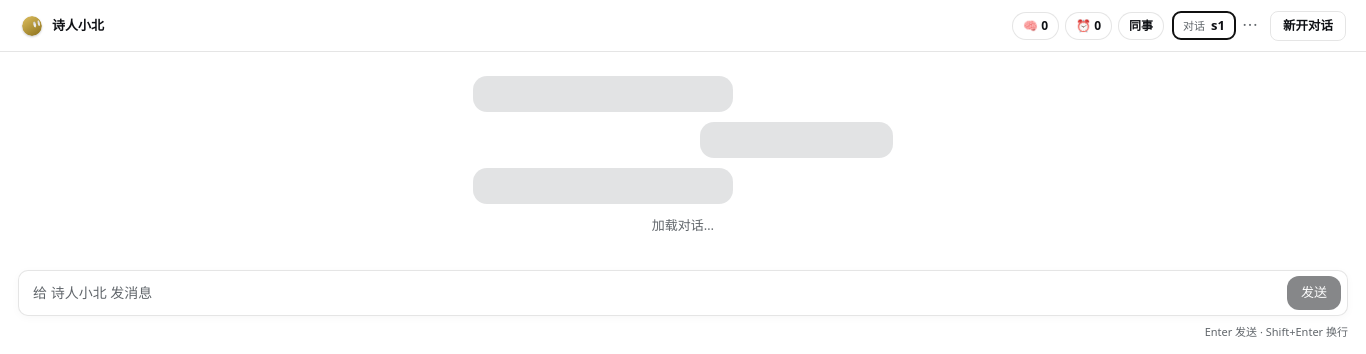
it: Conversation › opens the session switcher as a menu with arrow-key focus
This screenshot has width=1366, height=354.
Expected: the text box with test id "composer-input" is shown, left=25, top=274, right=1283, bottom=310
Click the button with test id "session-select". click: (1204, 26)
box: left=1172, top=11, right=1236, bottom=40
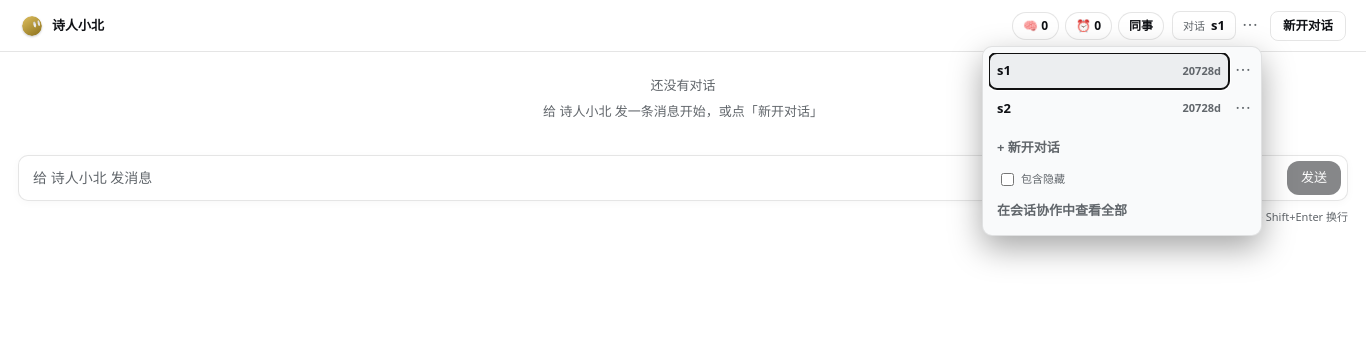
Press ArrowDown in the menu item with test id "session-option-s1", box left=989, top=53, right=1229, bottom=89
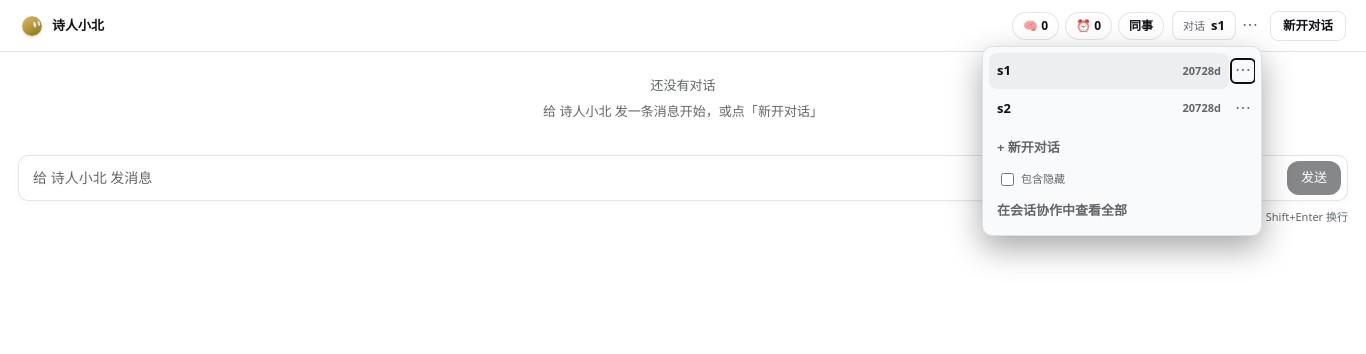
Press ArrowUp in the menu item with test id "session-menu-s1", box left=1231, top=59, right=1255, bottom=83
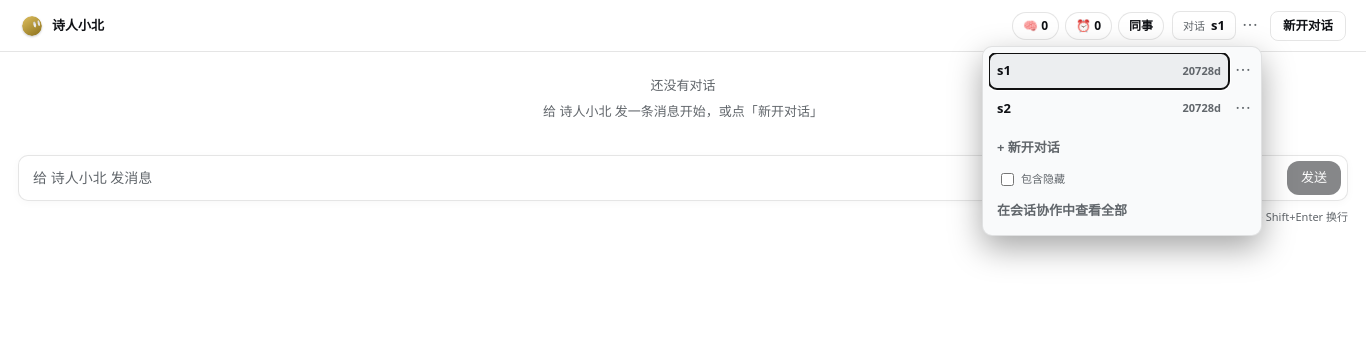
Press End in the menu item with test id "session-option-s1", box left=989, top=53, right=1229, bottom=89
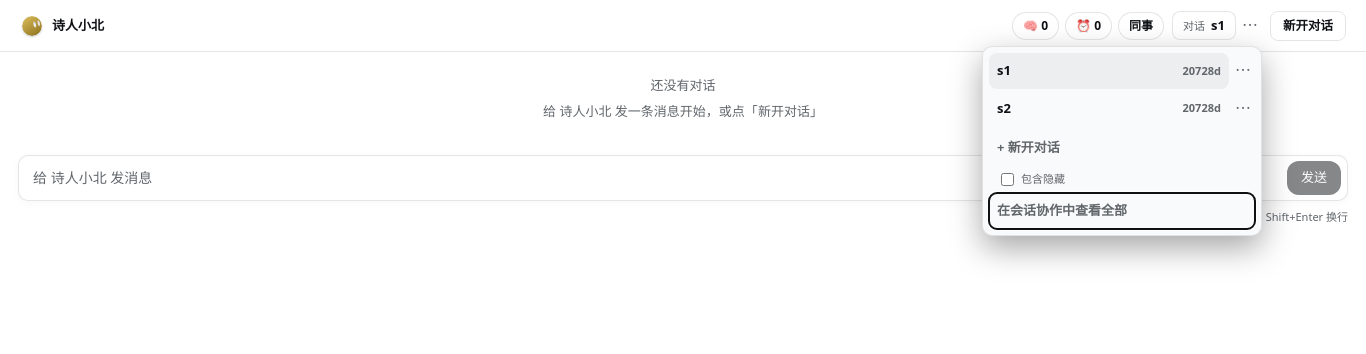
Press Home in the menu item with test id "session-tool-browse", box left=989, top=193, right=1255, bottom=229
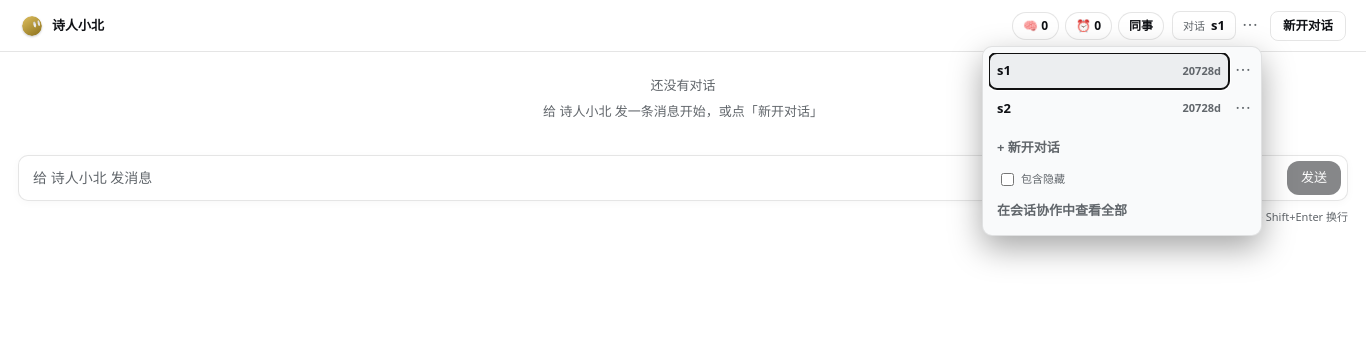
Press Escape in the menu item with test id "session-option-s1", box left=989, top=53, right=1229, bottom=89
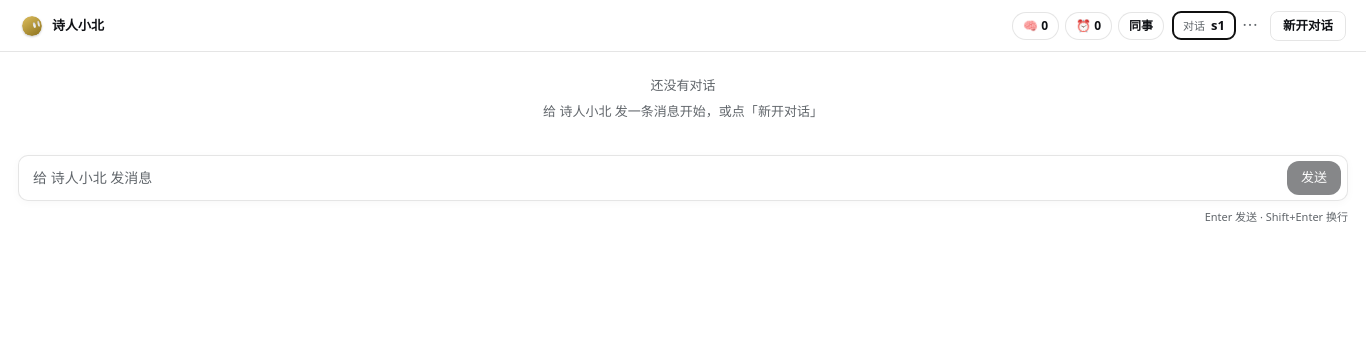
Result: the menu item with test id "session-option-s1" is gone
